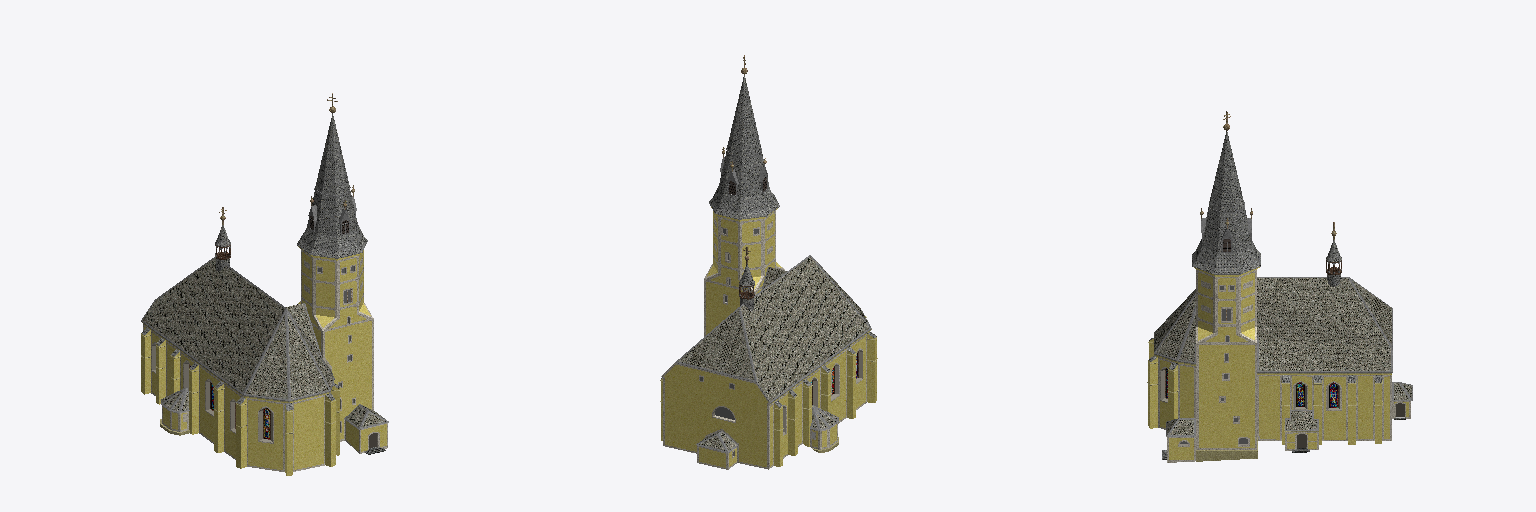
The picture shows the model from 3 angles: view 1: azimuth 30°, elevation 25°; view 2: azimuth 150°, elevation 25°; view 3: azimuth 270°, elevation 25°; orthographic projection.
Visible parts, largest first — view 1: Mesh03, Mesh06; view 2: Mesh03, Mesh06; view 3: Mesh03, Mesh06.
Part boxes in pixels (x1,y1,x2,y2): Mesh03: (141, 109, 388, 475); Mesh06: (215, 207, 230, 270); Mesh03: (660, 71, 877, 469); Mesh06: (739, 246, 754, 310); Mesh03: (1147, 126, 1412, 462); Mesh06: (1326, 222, 1341, 286).
Size of the model in its own units: 2.85 by 5.84 by 4.14.
Materials: 28 (20 with a texture image).